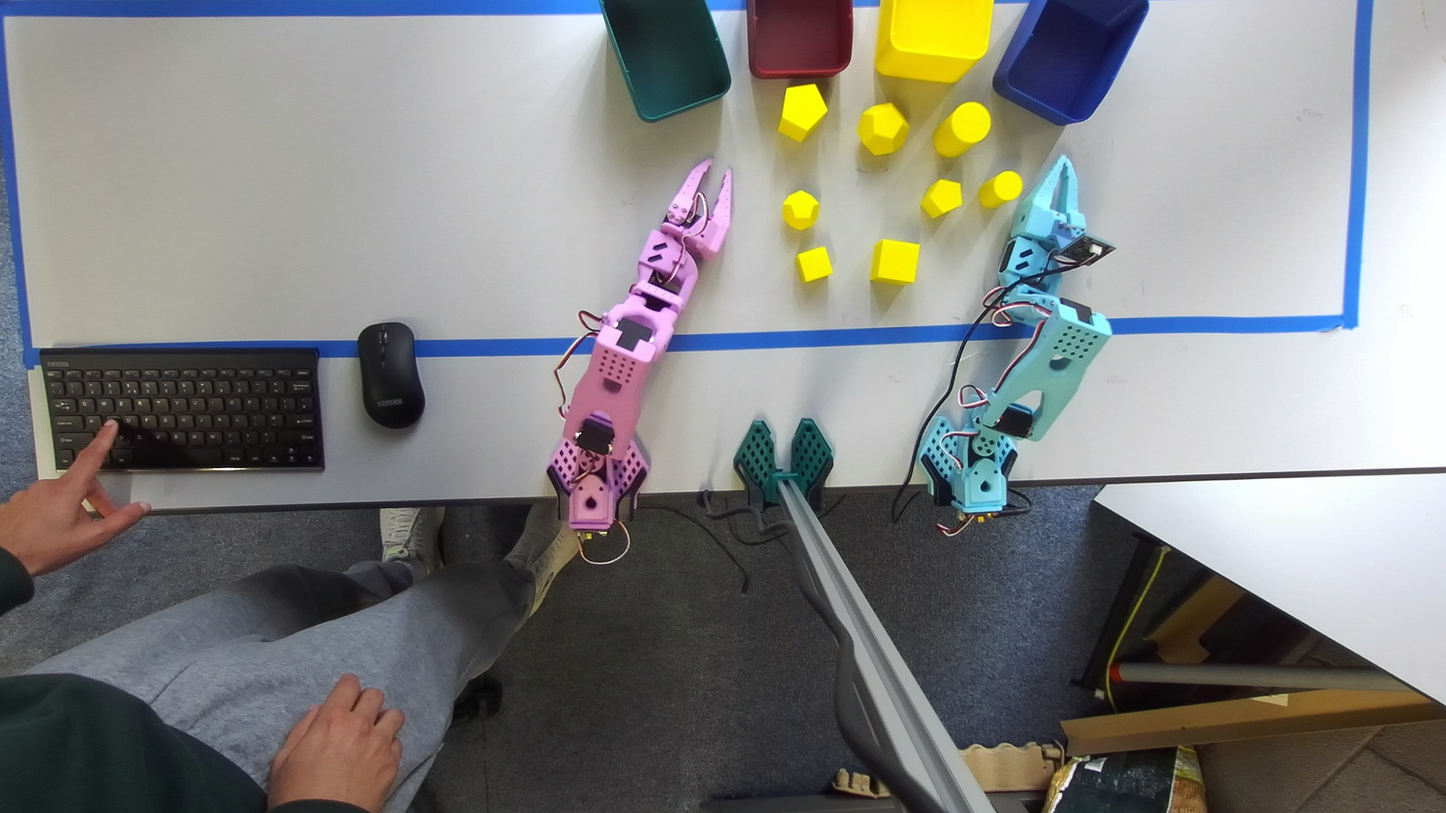bin: (993, 0, 1149, 125), (599, 0, 731, 121), (874, 0, 992, 82), (746, 0, 853, 80)
cube: (870, 239, 919, 283), (795, 246, 831, 282)
cylinder: (933, 102, 990, 157), (978, 170, 1022, 206)
dodecahedron: (857, 103, 908, 155), (782, 190, 819, 230)
gripper: (660, 157, 732, 260), (1011, 155, 1084, 247)
hexagonal: (778, 84, 827, 142), (920, 179, 961, 218)
